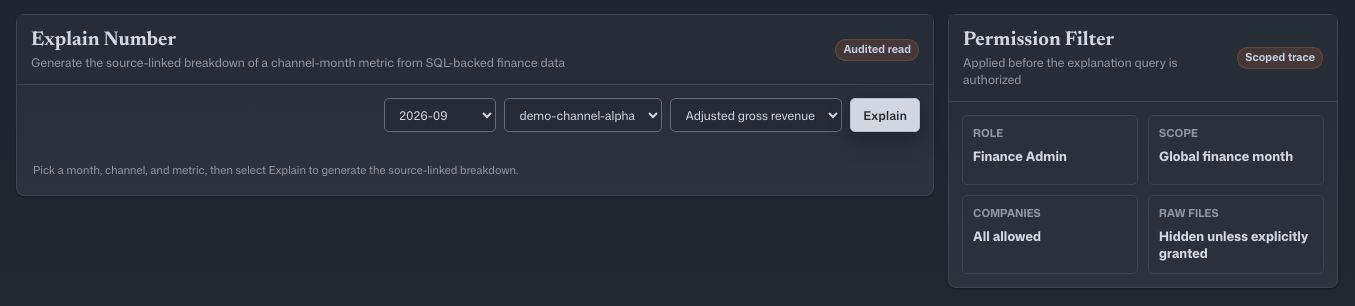
Test case: TraceView wired to the explain endpoint › maps a 403 from the explain POST to a no-permission message
# Wait for the button to enable (channel list resolved) before clicking.
Click the button "Explain": coordinates (885, 115) [850,98,920,132]
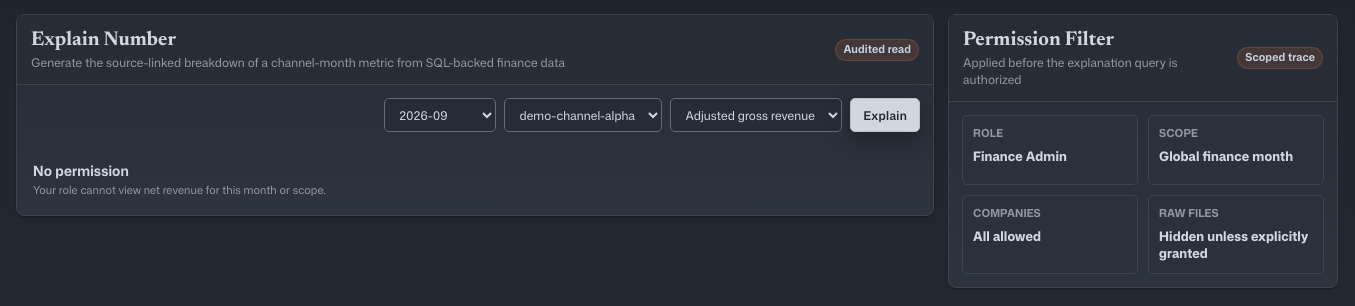
Now the text "No permission" is shown, box [33,161,129,180]
